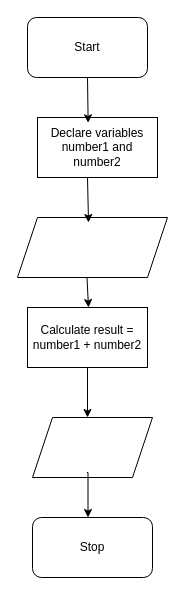
Some shapes in this 185 by 595 pixel diagram are drawn without their labels. The shapes that lost their labels are listed below. From the top down, each one's centre as x and y in pixels, then its label:
At [92,247]: "Input number1 and number2".
At [92,447]: "Display result".
